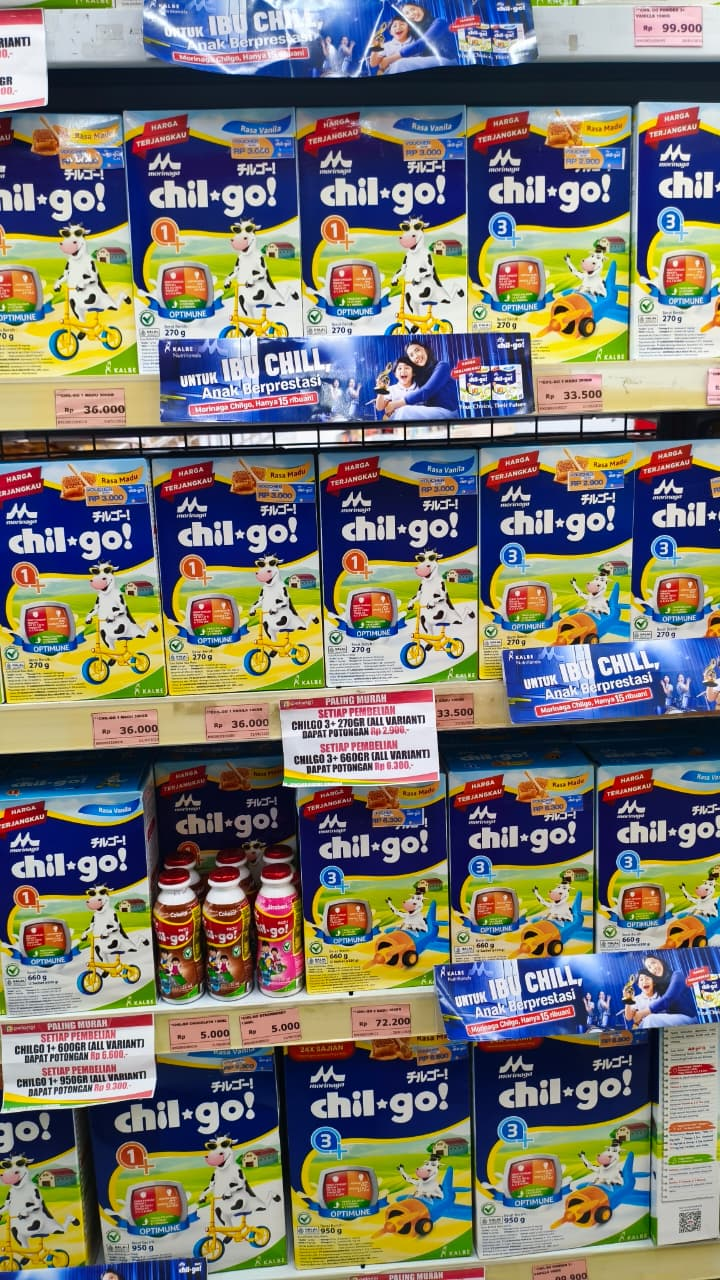Chil go: (292, 1059, 462, 1221), (133, 145, 297, 311), (469, 153, 633, 319), (289, 816, 453, 982), (486, 482, 650, 648), (155, 490, 319, 656)
